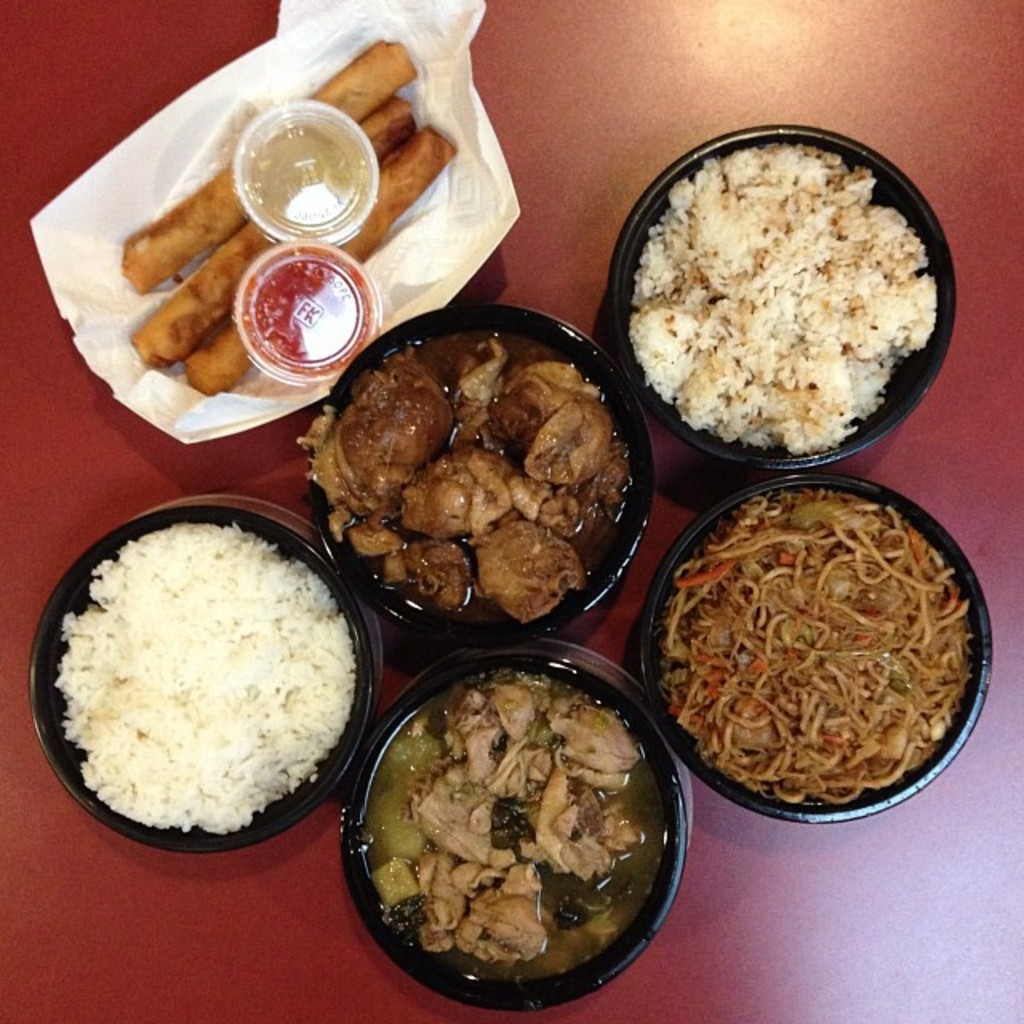pasta: (661, 493, 984, 803)
